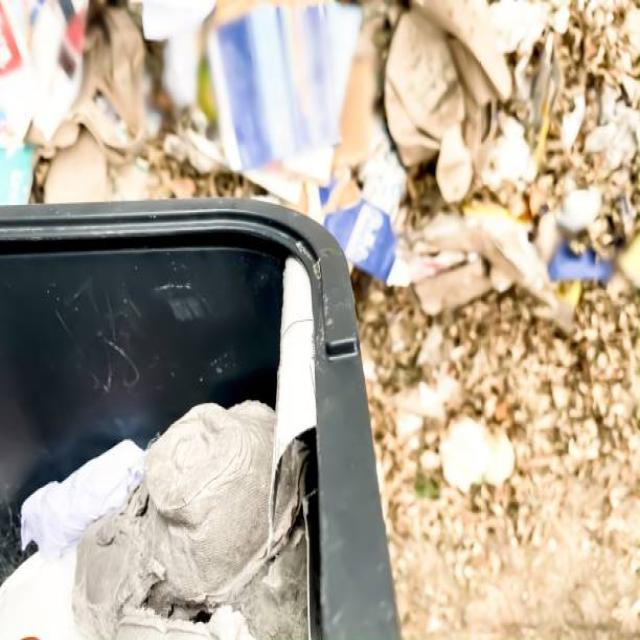cardboard: (44, 431, 314, 606)
